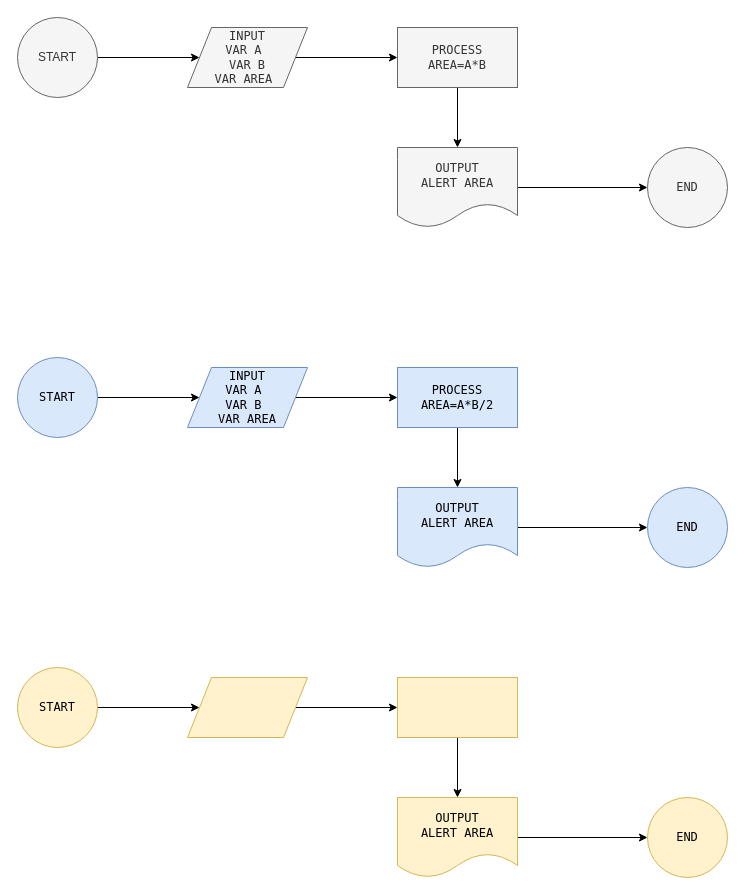
Image size: 745x895. Some labels were removed from this diagram. The shapes that lost their labels are listed below. From the top down, each one's box as (x1, y1, x2, y2) in pixels, then its label:
(186, 676, 308, 738): INPUT VAR R VAR PI=3.14 VAR AREA
(396, 676, 518, 738): PROCESS AREA=PI*R^2
